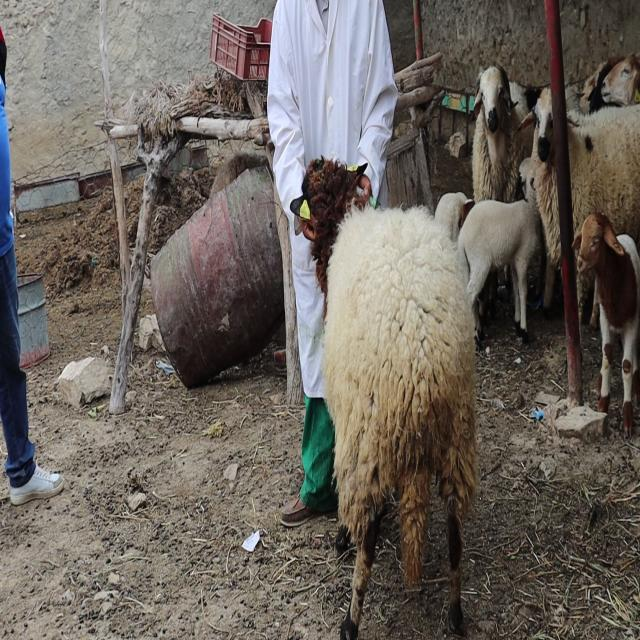Score_4: (290, 158, 478, 639)
